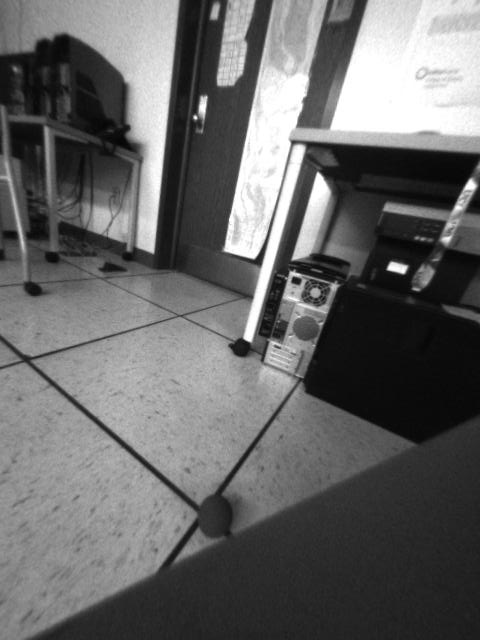dogtoy: (187, 483, 238, 540)
